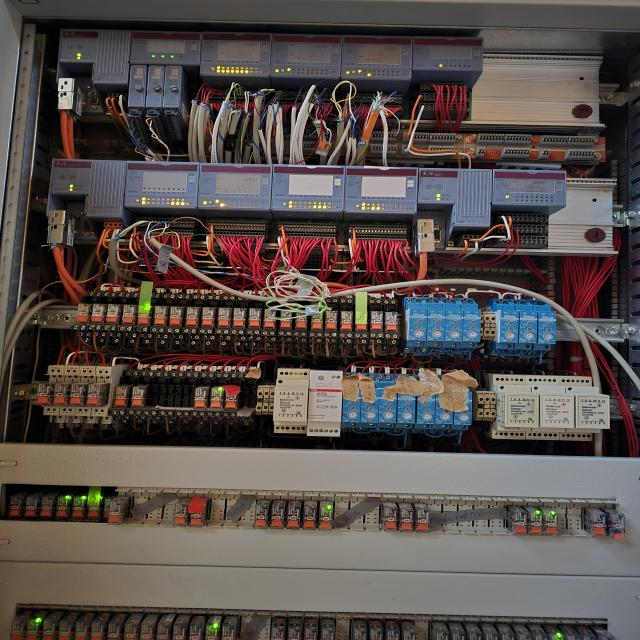Dimmer: (559, 375, 610, 441), (525, 375, 575, 441), (492, 374, 540, 440), (274, 370, 307, 435), (394, 374, 414, 430), (415, 374, 435, 430), (378, 373, 397, 428), (360, 373, 378, 428), (453, 376, 471, 430), (435, 375, 452, 430), (344, 372, 360, 429), (408, 306, 426, 341), (463, 309, 481, 342), (519, 310, 537, 343), (538, 312, 556, 344), (501, 310, 518, 343), (446, 308, 462, 342), (429, 308, 444, 341)
Relais: (307, 371, 343, 437), (608, 513, 626, 539), (589, 514, 607, 538), (528, 512, 544, 537), (382, 506, 397, 531), (130, 386, 146, 408), (114, 386, 130, 408), (319, 505, 333, 530), (415, 509, 429, 533), (286, 505, 300, 529), (189, 503, 203, 527), (86, 384, 101, 406), (69, 384, 84, 406), (303, 505, 316, 530), (544, 513, 558, 536), (400, 509, 414, 532), (109, 502, 123, 525), (225, 387, 238, 411), (513, 512, 526, 536), (324, 309, 338, 331), (25, 618, 39, 640), (175, 503, 187, 528), (76, 302, 90, 323), (202, 307, 216, 328), (272, 505, 284, 529), (256, 504, 268, 528), (186, 306, 199, 328), (233, 307, 246, 329), (294, 309, 307, 331), (122, 304, 136, 324), (309, 310, 323, 330), (354, 312, 368, 332), (340, 310, 352, 333), (370, 310, 383, 331), (210, 388, 223, 409), (195, 388, 208, 409), (53, 384, 66, 405), (74, 621, 88, 640), (249, 307, 261, 329), (386, 311, 398, 333), (58, 497, 70, 519), (40, 496, 52, 518), (10, 496, 22, 518), (107, 304, 120, 324), (38, 384, 51, 404), (42, 620, 55, 640), (138, 305, 150, 326), (264, 308, 276, 329), (280, 309, 292, 330), (26, 497, 38, 518), (12, 619, 24, 640), (90, 622, 104, 640), (58, 621, 71, 640), (107, 621, 120, 640), (92, 303, 104, 323), (154, 306, 166, 326), (170, 306, 182, 326), (218, 308, 230, 328), (124, 622, 137, 640), (140, 622, 153, 640), (173, 623, 186, 640), (205, 623, 218, 640), (90, 497, 100, 519), (74, 498, 84, 520), (483, 626, 498, 640), (189, 624, 202, 640), (287, 624, 300, 640), (320, 624, 333, 640), (433, 627, 449, 640), (466, 627, 482, 640), (515, 627, 531, 640), (157, 623, 169, 640), (223, 623, 235, 640), (369, 626, 383, 640), (402, 625, 415, 640), (499, 627, 514, 640), (450, 627, 464, 640), (272, 625, 284, 640), (304, 625, 316, 640), (354, 626, 366, 640), (387, 626, 399, 640), (596, 630, 612, 640), (548, 630, 563, 640), (565, 630, 580, 640), (533, 630, 547, 640), (581, 630, 595, 640), (104, 498, 109, 518)
SPS-System -Steuerungskomponente-: (346, 165, 416, 216), (199, 162, 271, 210), (127, 161, 198, 209), (342, 34, 412, 82), (273, 32, 341, 81), (274, 164, 343, 212), (201, 32, 270, 78), (50, 159, 123, 197), (128, 29, 201, 65), (418, 167, 489, 204), (494, 169, 565, 205), (415, 35, 484, 72), (60, 29, 127, 61)
